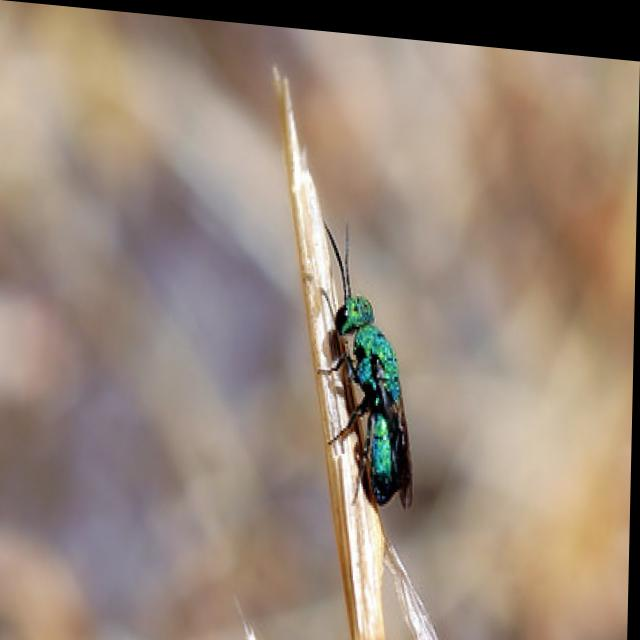Guepe: (304, 200, 435, 517)
